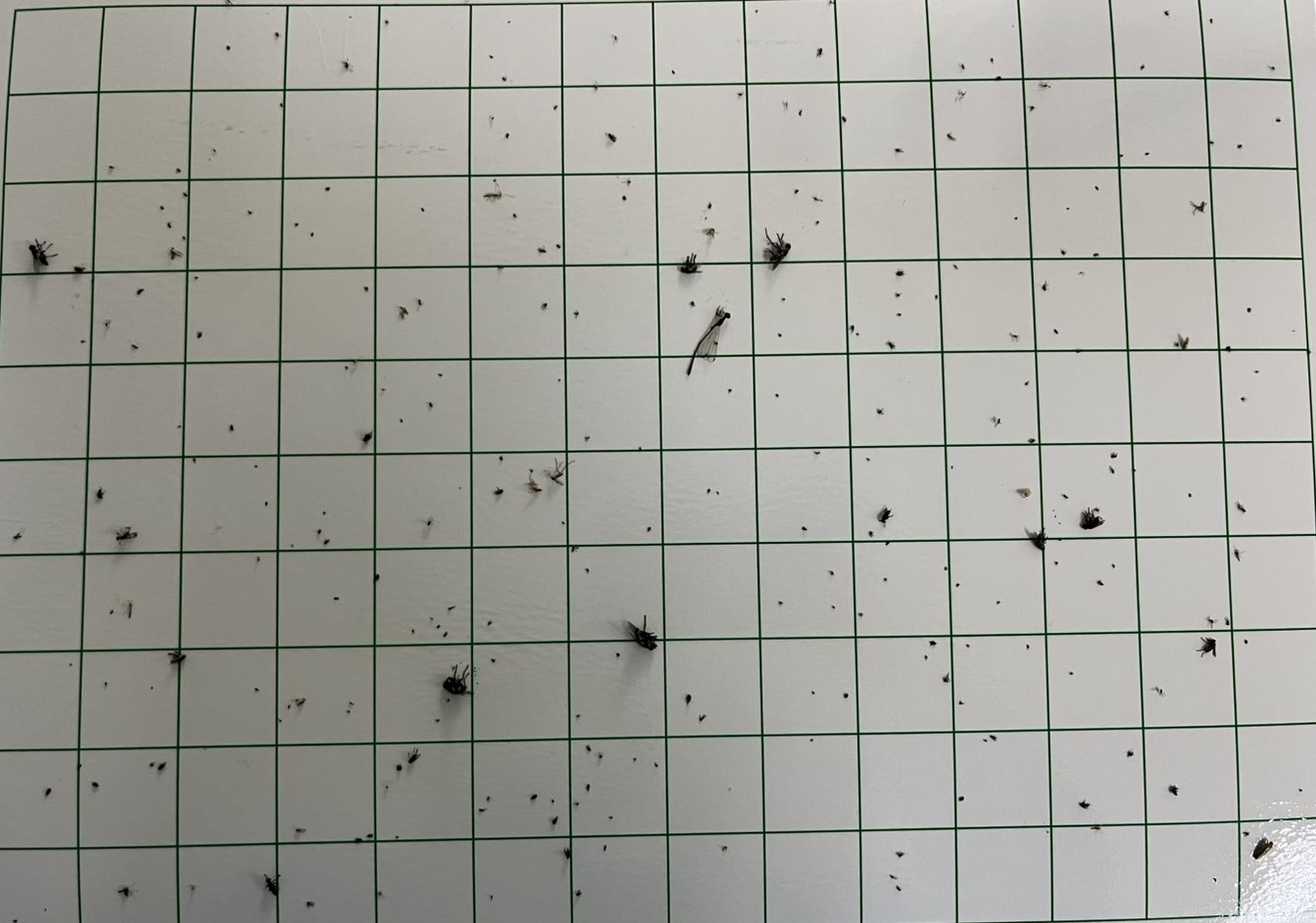fly: (625, 614, 658, 651), (761, 228, 790, 270), (442, 663, 471, 696), (29, 237, 58, 267), (1078, 506, 1105, 530), (1023, 525, 1047, 550), (1195, 636, 1216, 658), (678, 253, 700, 273), (262, 872, 280, 896), (114, 526, 137, 542)
test: (688, 310, 733, 376), (625, 614, 658, 651), (761, 228, 790, 270), (442, 663, 471, 696), (29, 237, 58, 267), (545, 456, 573, 486), (1078, 506, 1105, 530), (1023, 525, 1047, 550), (523, 468, 542, 494), (1250, 837, 1272, 859), (1195, 636, 1216, 658), (678, 253, 700, 273), (262, 872, 280, 896), (482, 181, 502, 202), (876, 505, 893, 527), (114, 526, 137, 542), (419, 515, 436, 534), (1172, 333, 1189, 350), (167, 650, 186, 665), (406, 746, 421, 764), (1189, 200, 1206, 214), (340, 58, 354, 72), (169, 247, 183, 260), (117, 885, 131, 898), (347, 359, 358, 375), (397, 305, 408, 320), (701, 227, 716, 238), (1015, 488, 1031, 498), (954, 89, 966, 102), (1234, 500, 1245, 514), (1232, 547, 1242, 562), (1150, 686, 1163, 697), (361, 431, 372, 444), (1077, 799, 1090, 810), (292, 697, 306, 707), (95, 486, 105, 500), (1204, 616, 1216, 627), (419, 205, 430, 217), (126, 600, 133, 618), (989, 416, 1000, 427), (605, 132, 616, 143), (1167, 785, 1178, 796), (1059, 492, 1071, 502), (687, 298, 697, 310), (492, 486, 503, 496), (155, 761, 166, 771), (346, 701, 354, 714), (1088, 824, 1101, 832), (13, 530, 23, 540), (438, 371, 448, 381), (549, 815, 558, 826), (292, 221, 303, 230), (73, 264, 85, 272), (562, 847, 570, 859), (1037, 82, 1050, 89), (1008, 332, 1018, 341), (885, 340, 895, 349), (276, 717, 286, 726), (444, 696, 454, 705), (684, 693, 691, 705), (74, 762, 86, 769), (103, 319, 111, 329), (941, 673, 949, 683), (44, 787, 52, 797), (332, 596, 342, 604), (432, 717, 445, 723), (1040, 281, 1047, 292), (811, 195, 822, 202), (864, 457, 875, 464), (537, 246, 546, 254), (946, 133, 955, 141), (306, 900, 315, 908), (284, 703, 293, 711), (180, 236, 189, 244), (182, 191, 190, 200), (841, 114, 849, 123), (892, 291, 901, 299), (815, 47, 822, 57), (210, 148, 217, 158), (894, 270, 904, 277), (894, 851, 904, 858), (148, 685, 158, 692), (109, 608, 116, 618), (574, 802, 584, 809), (994, 600, 1004, 607), (592, 80, 598, 91), (294, 828, 305, 834), (736, 93, 747, 99), (489, 114, 494, 127), (876, 407, 884, 415), (529, 793, 537, 801), (91, 781, 99, 789), (1125, 749, 1133, 757), (486, 620, 494, 628), (378, 387, 386, 395), (989, 734, 997, 742), (929, 640, 937, 648), (1225, 345, 1233, 353), (1027, 104, 1035, 112), (868, 529, 876, 537), (933, 293, 941, 301), (130, 343, 139, 350), (611, 34, 618, 43), (425, 518, 432, 527), (570, 546, 579, 553), (395, 763, 402, 772), (224, 0, 233, 7), (253, 686, 260, 695), (368, 832, 377, 839), (263, 500, 272, 507), (397, 418, 406, 425), (1110, 453, 1119, 460), (1052, 327, 1059, 336), (952, 263, 959, 272), (383, 785, 389, 795), (512, 211, 518, 221), (541, 302, 548, 310), (107, 165, 115, 172), (136, 288, 144, 295), (447, 605, 455, 612), (698, 714, 705, 722), (491, 658, 499, 665), (192, 457, 199, 465), (246, 208, 253, 216), (584, 745, 592, 752), (1211, 876, 1218, 884), (1078, 270, 1085, 278), (1092, 252, 1100, 259), (1140, 63, 1147, 71), (995, 75, 1003, 82), (553, 104, 560, 112), (777, 600, 785, 607), (614, 651, 621, 659), (829, 570, 837, 577), (813, 451, 821, 458), (780, 296, 788, 303), (896, 312, 904, 319), (782, 100, 787, 111), (417, 298, 423, 307), (597, 751, 603, 760), (894, 147, 903, 153), (1108, 465, 1114, 474), (888, 874, 897, 880), (1225, 617, 1231, 626), (1027, 438, 1036, 444), (1208, 140, 1217, 146), (793, 187, 799, 196), (772, 393, 781, 399), (583, 435, 590, 442), (1162, 10, 1169, 17), (148, 761, 155, 768), (188, 884, 195, 891), (351, 359, 358, 366), (429, 616, 436, 623), (309, 231, 316, 238), (842, 693, 849, 700), (1060, 249, 1067, 256), (621, 195, 628, 202), (726, 387, 733, 394), (427, 401, 433, 409), (166, 221, 172, 229), (315, 528, 321, 536), (374, 573, 380, 581), (575, 889, 581, 897), (1267, 65, 1275, 71), (354, 837, 362, 843), (576, 712, 582, 720), (958, 797, 966, 803), (1025, 644, 1031, 652), (1236, 143, 1244, 149), (626, 178, 632, 186), (501, 77, 509, 83), (858, 611, 866, 617), (478, 808, 487, 813), (574, 311, 580, 318), (504, 132, 510, 139), (720, 846, 727, 852), (1239, 396, 1246, 402), (376, 890, 382, 897), (1242, 831, 1249, 837), (895, 884, 901, 891), (410, 628, 416, 635), (253, 463, 259, 470), (344, 366, 350, 373), (983, 738, 989, 745), (923, 654, 929, 661), (958, 700, 965, 706), (1097, 580, 1104, 586), (797, 109, 803, 116), (507, 20, 514, 26), (584, 567, 590, 574), (646, 526, 652, 533), (705, 488, 712, 494), (883, 576, 889, 583), (849, 325, 856, 331), (229, 424, 234, 432), (498, 455, 503, 463), (393, 835, 401, 840), (323, 540, 331, 545), (80, 339, 88, 344), (856, 331, 861, 339), (555, 243, 563, 248), (363, 286, 369, 292), (585, 783, 589, 792), (324, 186, 330, 192), (801, 526, 807, 532), (1024, 381, 1030, 387), (1065, 206, 1071, 212), (989, 57, 995, 63), (670, 69, 676, 75), (197, 331, 202, 338), (384, 19, 389, 26), (274, 32, 279, 39), (573, 311, 578, 318), (68, 661, 73, 668), (436, 623, 441, 630), (323, 511, 330, 516), (176, 424, 183, 429), (194, 275, 199, 282), (159, 206, 166, 211), (608, 816, 615, 821), (633, 756, 638, 763), (960, 63, 965, 70), (814, 220, 821, 225), (828, 0, 835, 5), (708, 203, 712, 211), (175, 168, 181, 173), (1246, 307, 1251, 313), (225, 45, 230, 51), (12, 918, 18, 923), (486, 795, 492, 800), (443, 632, 449, 637), (291, 544, 296, 550), (654, 763, 660, 768), (809, 691, 815, 696), (966, 643, 971, 649), (1298, 788, 1304, 793), (1054, 561, 1060, 566), (1187, 492, 1192, 498), (1131, 468, 1137, 473), (754, 10, 760, 15), (715, 490, 720, 496), (831, 604, 836, 610), (886, 540, 891, 546), (256, 556, 260, 563), (560, 520, 567, 524), (954, 584, 961, 588), (1275, 117, 1280, 122), (280, 103, 285, 108), (551, 799, 556, 804), (1254, 370, 1259, 375), (1145, 151, 1150, 156), (489, 54, 494, 59), (104, 681, 108, 687), (489, 894, 493, 900), (1208, 17, 1212, 23), (604, 846, 608, 852), (1069, 672, 1075, 676), (1244, 640, 1248, 646), (1014, 216, 1020, 220), (1095, 185, 1099, 191), (637, 446, 643, 450), (776, 334, 783, 337), (809, 739, 814, 743), (1111, 564, 1115, 569), (1118, 154, 1123, 158), (945, 566, 949, 571), (349, 15, 351, 19)
